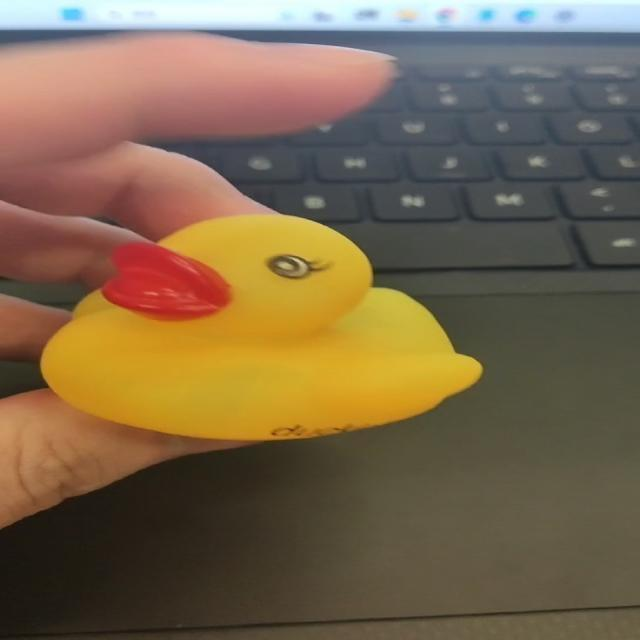rubber-duck: (40, 213, 480, 439)
